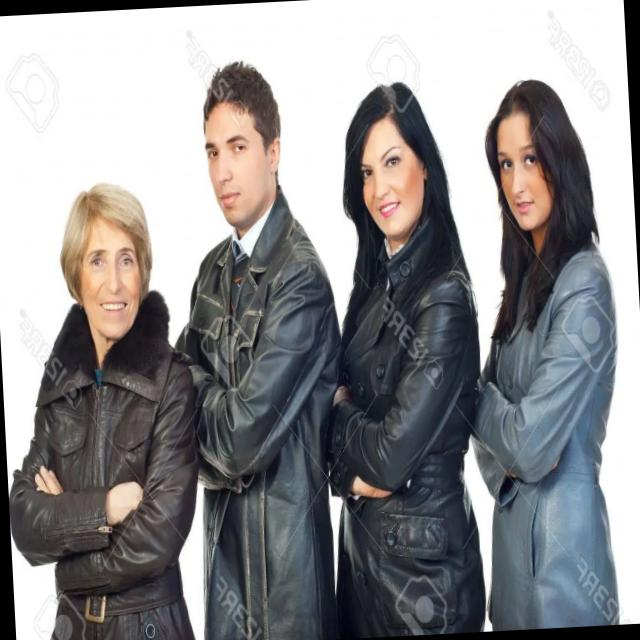Jacket: (169, 224, 354, 640), (316, 238, 499, 639), (0, 313, 213, 640), (466, 244, 638, 632)
